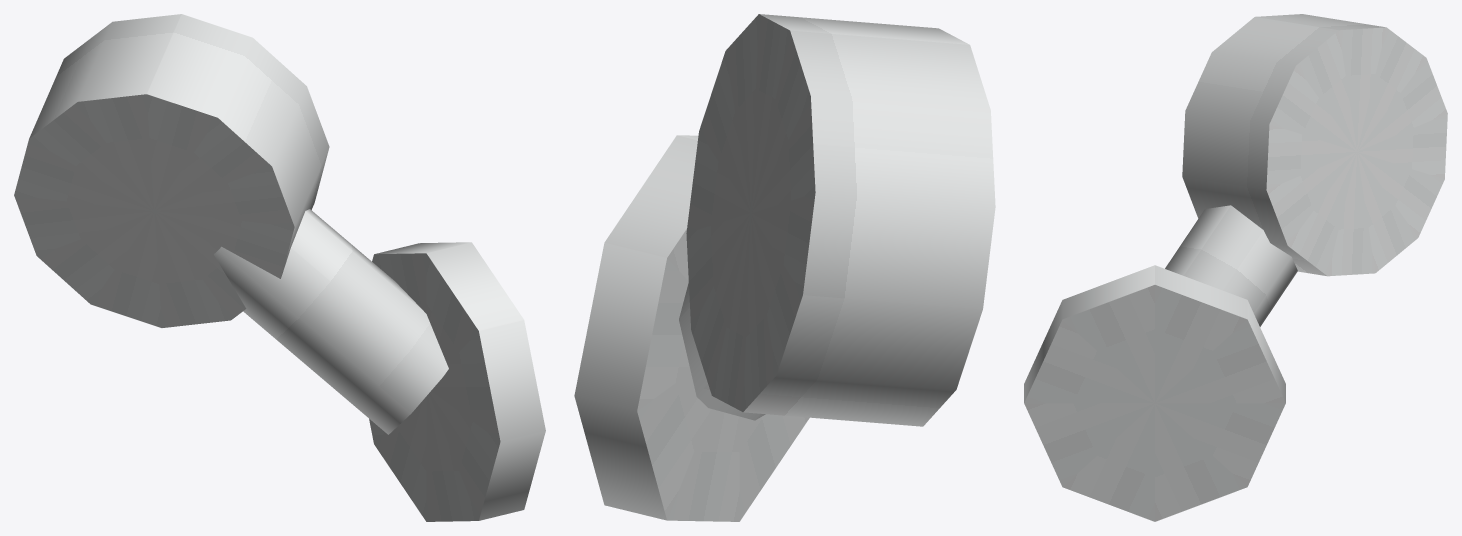
File: nycsignalarm_stub_240.obj
3 renders of one model, left to right at view 1: azimuth 30°, elevation 25°; view 2: azimuth 150°, elevation 25°; view 3: azimuth 270°, elevation 25°, orthographic. The views are drawn at different scales.
Parts seen in each view (by area): view 1: nycsignalarm_stub_240; view 2: nycsignalarm_stub_240; view 3: nycsignalarm_stub_240.
Part boxes in pixels (x1,y1,x2,y2): nycsignalarm_stub_240: (14, 14, 545, 521); nycsignalarm_stub_240: (574, 14, 995, 521); nycsignalarm_stub_240: (1024, 14, 1447, 521).
Size of the model in its own units: 0.463 by 0.6071 by 0.5665.
